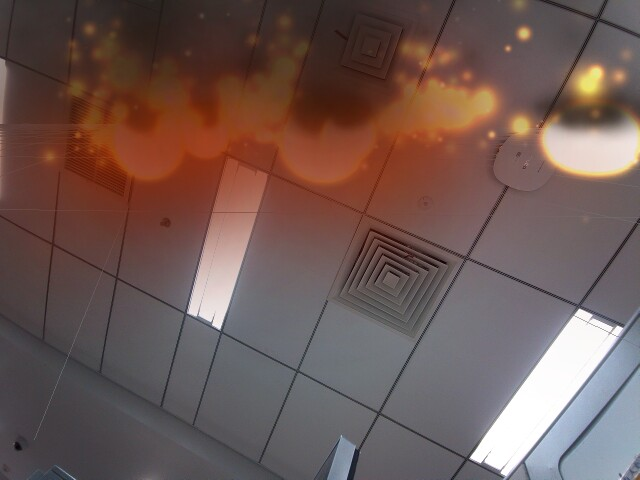fire: (534, 96, 637, 184), (278, 100, 362, 184), (107, 107, 186, 181), (319, 92, 382, 157), (187, 115, 229, 159)
